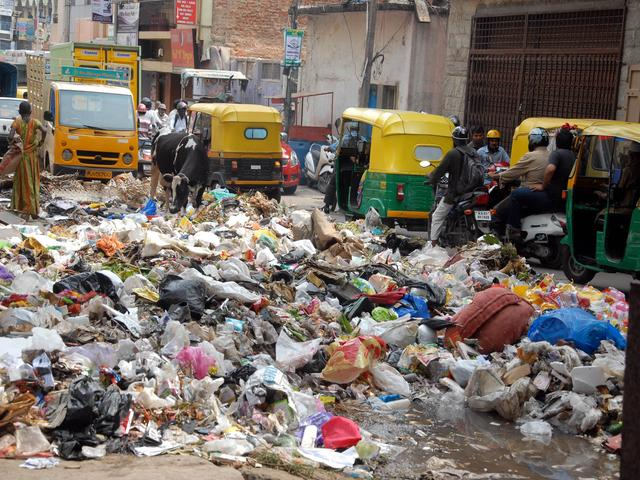garbage: (12, 220, 565, 426)
